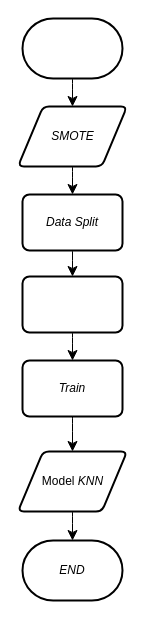
Image size: 145x618. Some labels were removed from this diagram. The shapes that lost their labels are listed below. From the top down, each one's box as (x1, y1, x2, y2) in pixels, then its label:
(21, 17, 123, 79): START
(21, 275, 123, 333): Penentuan parameter
